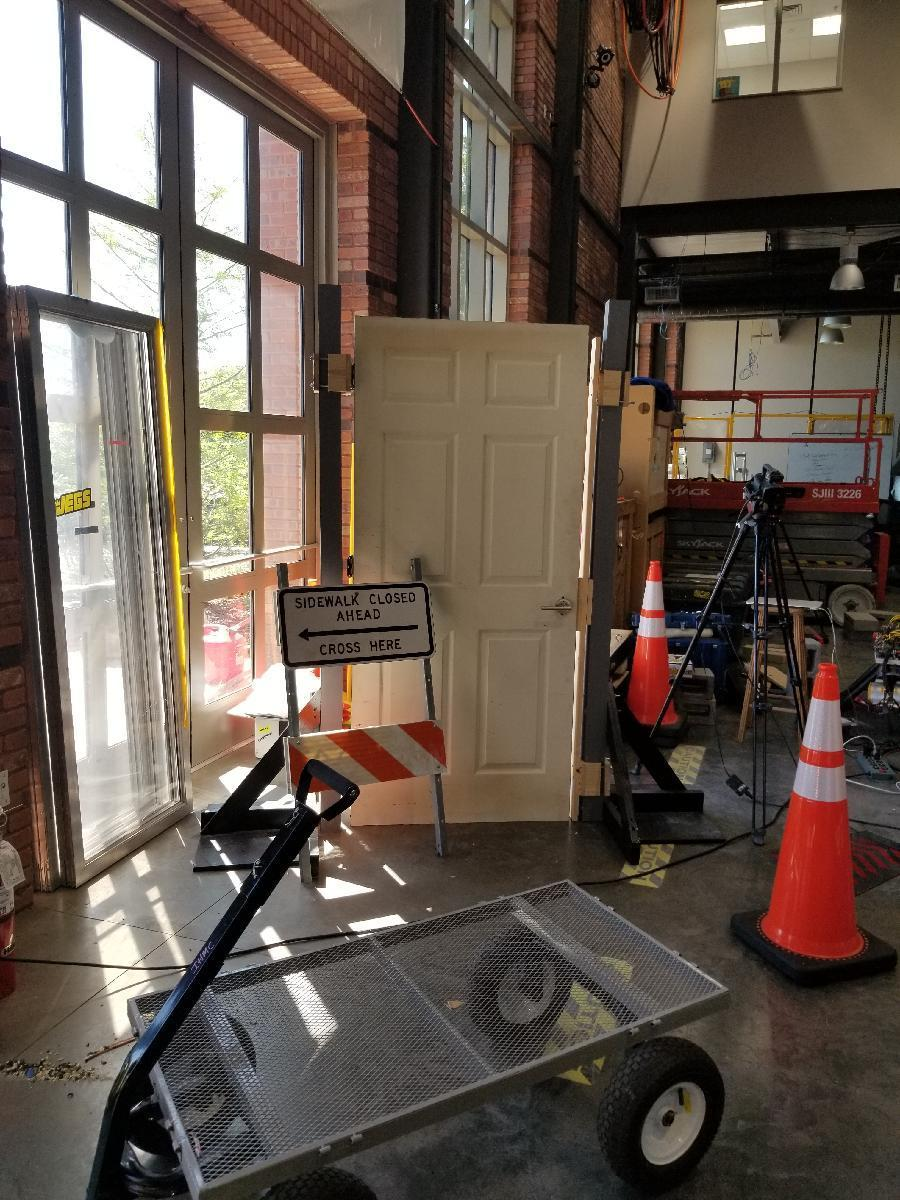door: (355, 315, 573, 824)
handle: (540, 592, 576, 620)
